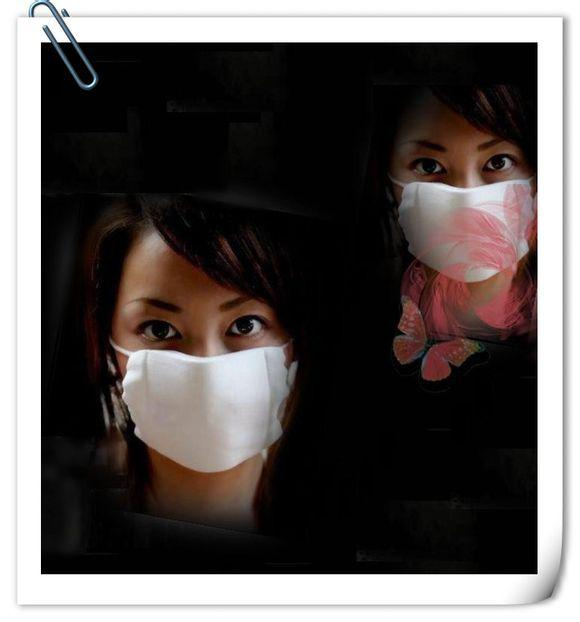OK: (119, 285, 300, 457), (403, 138, 528, 274)
